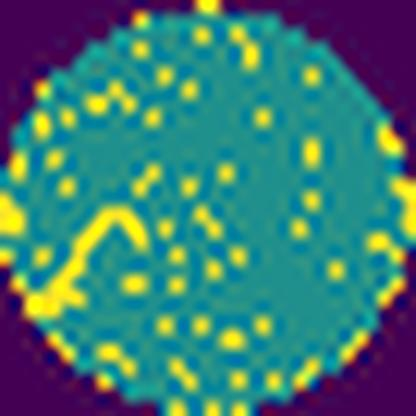Scratch: (25, 200, 153, 324)
